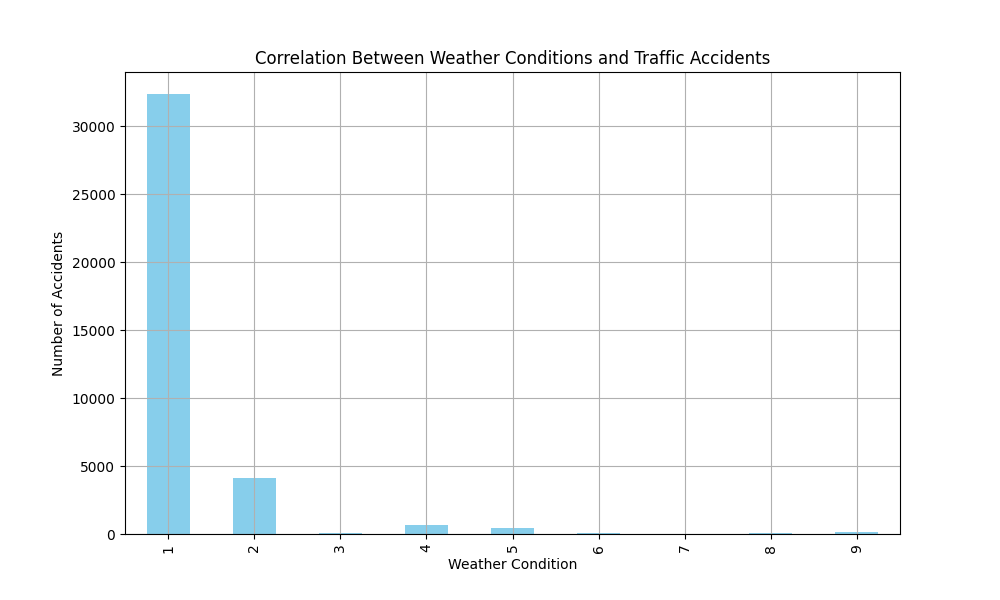

What the dashboard file says about the page in this screenshot:
{"tool":"tableau","page":{"name":"Dashboard 1","canvas":[1000,1000],"units":"permille","ordinal":0},"visuals":[{"type":"worksheet","title":"Sheet 2","mark":"Bar","rows":["count"],"cols":["date","date"],"box":[1.8,480.7,991,499.4]}]}

Visuals, with their boxes on the dashboard's canvas, which has no fixed pixel size, in thousandths of its width and height (x1, y1, x2, y2). These are canvas units, not pixel positions in the 1000x600 screenshot, which may show the page scaled, cropped or inside an application window:
"Sheet 2" worksheet (Bar marks): x1=2, y1=481, x2=993, y2=980
